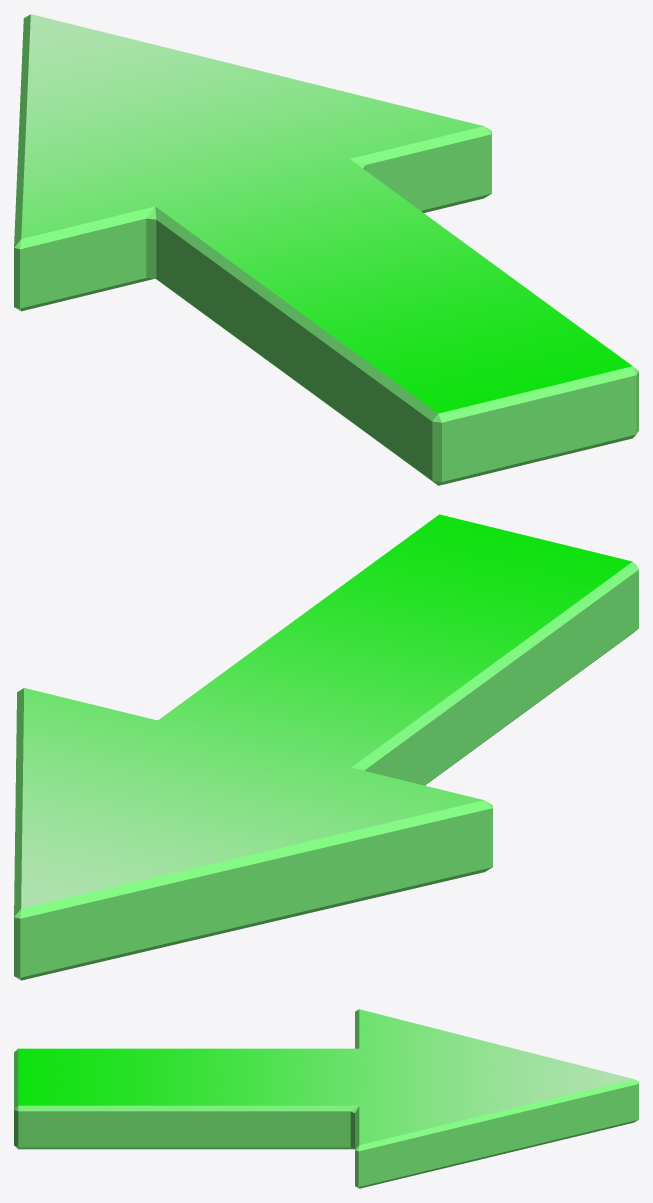
File: jiantou.FBX
The picture shows the model from 3 angles, top to bottom: view 1: azimuth 30°, elevation 25°; view 2: azimuth 150°, elevation 25°; view 3: azimuth 270°, elevation 25°; orthographic projection. The views are drawn at different scales.
Visible parts, largest first — view 1: Line002; view 2: Line002; view 3: Line002.
Boxes of the visible parts, box(x1,y1,x2,y2) form: Line002: box(14, 14, 638, 485); Line002: box(14, 514, 638, 980); Line002: box(14, 1009, 638, 1188).
Size of the model in its own units: 0.6014 by 0.0869 by 1.13.
Materials: 1 (1 with a texture image).
